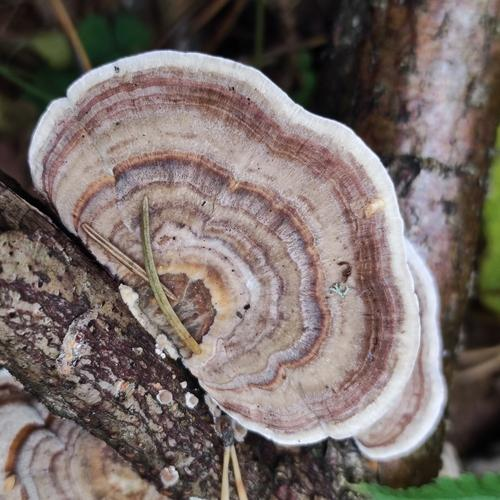poisonous_mushroom: (26, 47, 448, 464)
